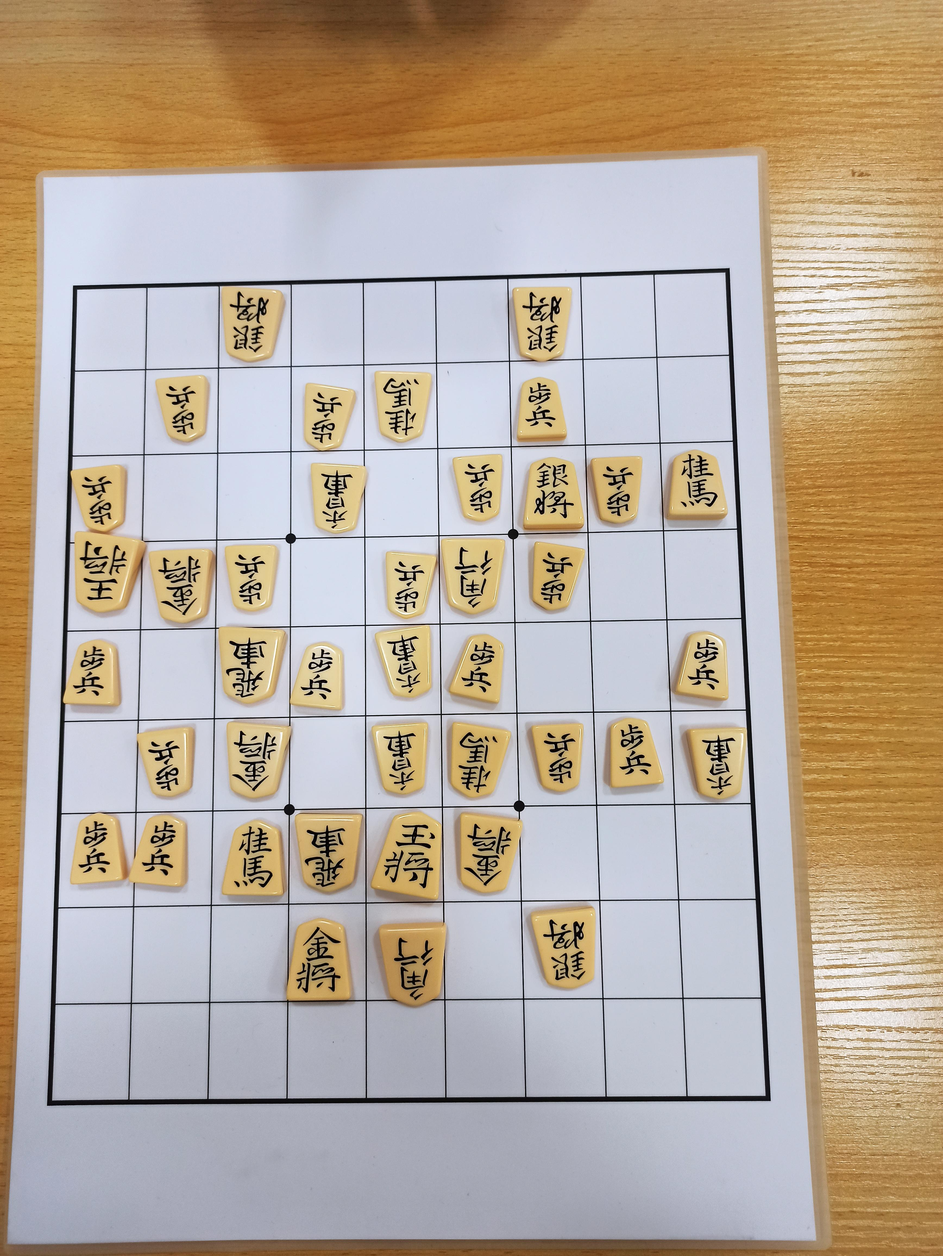board: (50, 271, 769, 1101)
